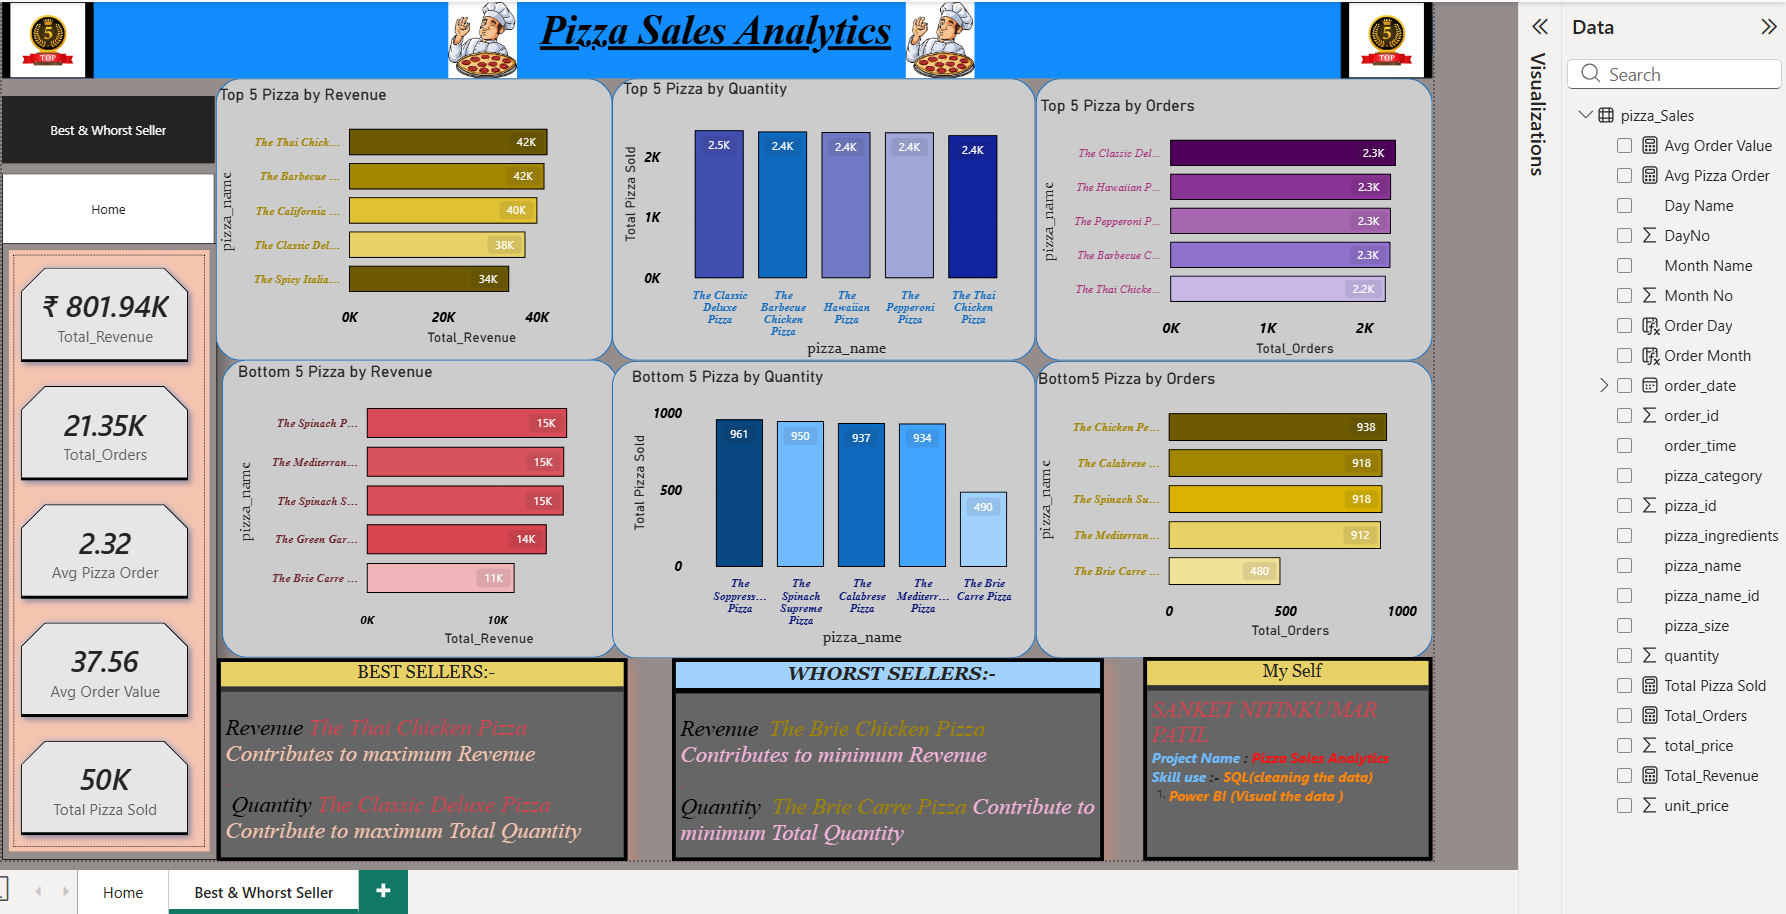

Layout of this report page (visuals, bound fields, positions):
{"tool":"powerbi","page":{"name":"Best & Whorst Seller ","canvas":[1500,900],"ordinal":1},"visuals":[{"type":"cardVisual","fields":{"Data":["pizza_Sales.Total_Revenue","pizza_Sales.Total_Orders","pizza_Sales.Avg Pizza Order","pizza_Sales.Avg Order Value","pizza_Sales.Total Pizza Sold"]},"box":[0,253.3,225.6,646.7],"z":0},{"type":"shape","box":[0,0,1500,68.3],"z":1000},{"type":"textbox","box":[0,0,1496,80],"z":2000},{"type":"shape","box":[224,80,416,296],"z":3000},{"type":"shape","box":[640,80,444,296],"z":4000},{"type":"shape","box":[1084,80,416,296],"z":5000},{"type":"shape","box":[230,375,415,312.5],"z":6000},{"type":"shape","box":[640,376,444,312],"z":7000},{"type":"shape","box":[1084,376,416,312],"z":8000},{"type":"barChart","title":"  Top 5 Pizza by Revenue","fields":{"Category":["pizza_Sales.pizza_name"],"Y":["pizza_Sales.Total_Revenue"]},"box":[223,87,417,278],"z":9000},{"type":"barChart","title":"Bottom 5 Pizza by Revenue","fields":{"Category":["pizza_Sales.pizza_name"],"Y":["pizza_Sales.Total_Revenue"]},"box":[242.5,377.5,412.5,302.5],"z":10000},{"type":"clusteredColumnChart","title":"Top 5 Pizza by Quantity ","fields":{"Category":["pizza_Sales.pizza_name"],"Y":["pizza_Sales.Total Pizza Sold"]},"box":[646,80,431,297],"z":11000},{"type":"columnChart","title":"Bottom 5 Pizza by Quantity ","fields":{"Category":["pizza_Sales.pizza_name"],"Y":["pizza_Sales.Total Pizza Sold"]},"box":[655,383,431,297],"z":12000},{"type":"barChart","title":"  Top 5 Pizza by Orders","fields":{"Category":["pizza_Sales.pizza_name"],"Y":["pizza_Sales.Total_Orders"]},"box":[1083.3,98.3,416.7,278.3],"z":13000},{"type":"barChart","title":"  Bottom5 Pizza by Orders","fields":{"Category":["pizza_Sales.pizza_name"],"Y":["pizza_Sales.Total_Orders"]},"box":[1081.7,383.3,418.3,288.3],"z":14000},{"type":"pageNavigator","box":[0,98.9,223.3,71.1],"z":15000},{"type":"pageNavigator","box":[0,178.9,223.3,74.4],"z":16000},{"type":"textbox","title":"BEST SELLERS:-","box":[225,687.5,430,212.5],"z":17000},{"type":"textbox","title":"WHORST SELLERS:-","box":[702.5,687.5,452.5,212.5],"z":18000},{"type":"textbox","title":"My Self ","box":[1196.7,686.7,303.3,213.3],"z":19000},{"type":"image","box":[0,0,96,80],"z":20000},{"type":"image","box":[1404,0,96,80],"z":21000},{"type":"image","box":[944,0,80,80],"z":21001},{"type":"image","box":[464,0,80,80],"z":21002}]}

Visuals, with their boxes on the page's 1500x900 design canvas (x1, y1, x2, y2). These are canvas units, not pixel positions in the 1786x914 screenshot, which may show the page scaled, cropped or inside an application window:
cardVisual - pizza_Sales.Total_Revenue x pizza_Sales.Total_Orders: x1=0 y1=253 x2=226 y2=900
shape: x1=0 y1=0 x2=1500 y2=68
textbox: x1=0 y1=0 x2=1496 y2=80
shape: x1=224 y1=80 x2=640 y2=376
shape: x1=640 y1=80 x2=1084 y2=376
shape: x1=1084 y1=80 x2=1500 y2=376
shape: x1=230 y1=375 x2=645 y2=688
shape: x1=640 y1=376 x2=1084 y2=688
shape: x1=1084 y1=376 x2=1500 y2=688
"  Top 5 Pizza by Revenue" barChart: x1=223 y1=87 x2=640 y2=365
"Bottom 5 Pizza by Revenue" barChart: x1=242 y1=378 x2=655 y2=680
"Top 5 Pizza by Quantity " clusteredColumnChart: x1=646 y1=80 x2=1077 y2=377
"Bottom 5 Pizza by Quantity " columnChart: x1=655 y1=383 x2=1086 y2=680
"  Top 5 Pizza by Orders" barChart: x1=1083 y1=98 x2=1500 y2=377
"  Bottom5 Pizza by Orders" barChart: x1=1082 y1=383 x2=1500 y2=672
pageNavigator: x1=0 y1=99 x2=223 y2=170
pageNavigator: x1=0 y1=179 x2=223 y2=253
"BEST SELLERS:-" textbox: x1=225 y1=688 x2=655 y2=900
"WHORST SELLERS:-" textbox: x1=702 y1=688 x2=1155 y2=900
"My Self " textbox: x1=1197 y1=687 x2=1500 y2=900
image: x1=0 y1=0 x2=96 y2=80
image: x1=1404 y1=0 x2=1500 y2=80
image: x1=944 y1=0 x2=1024 y2=80
image: x1=464 y1=0 x2=544 y2=80
